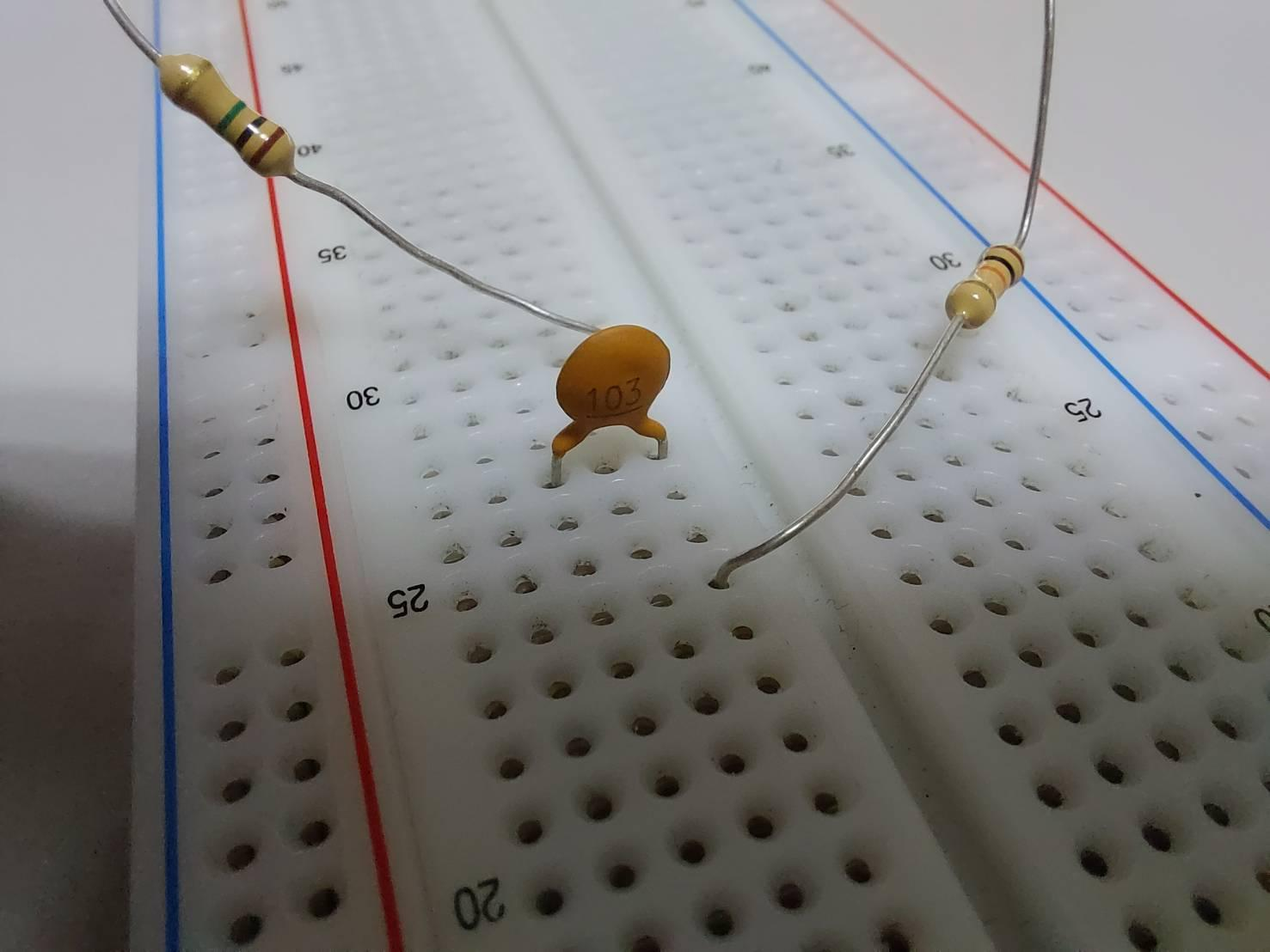resistor: (144, 44, 325, 197), (953, 227, 1031, 326)
